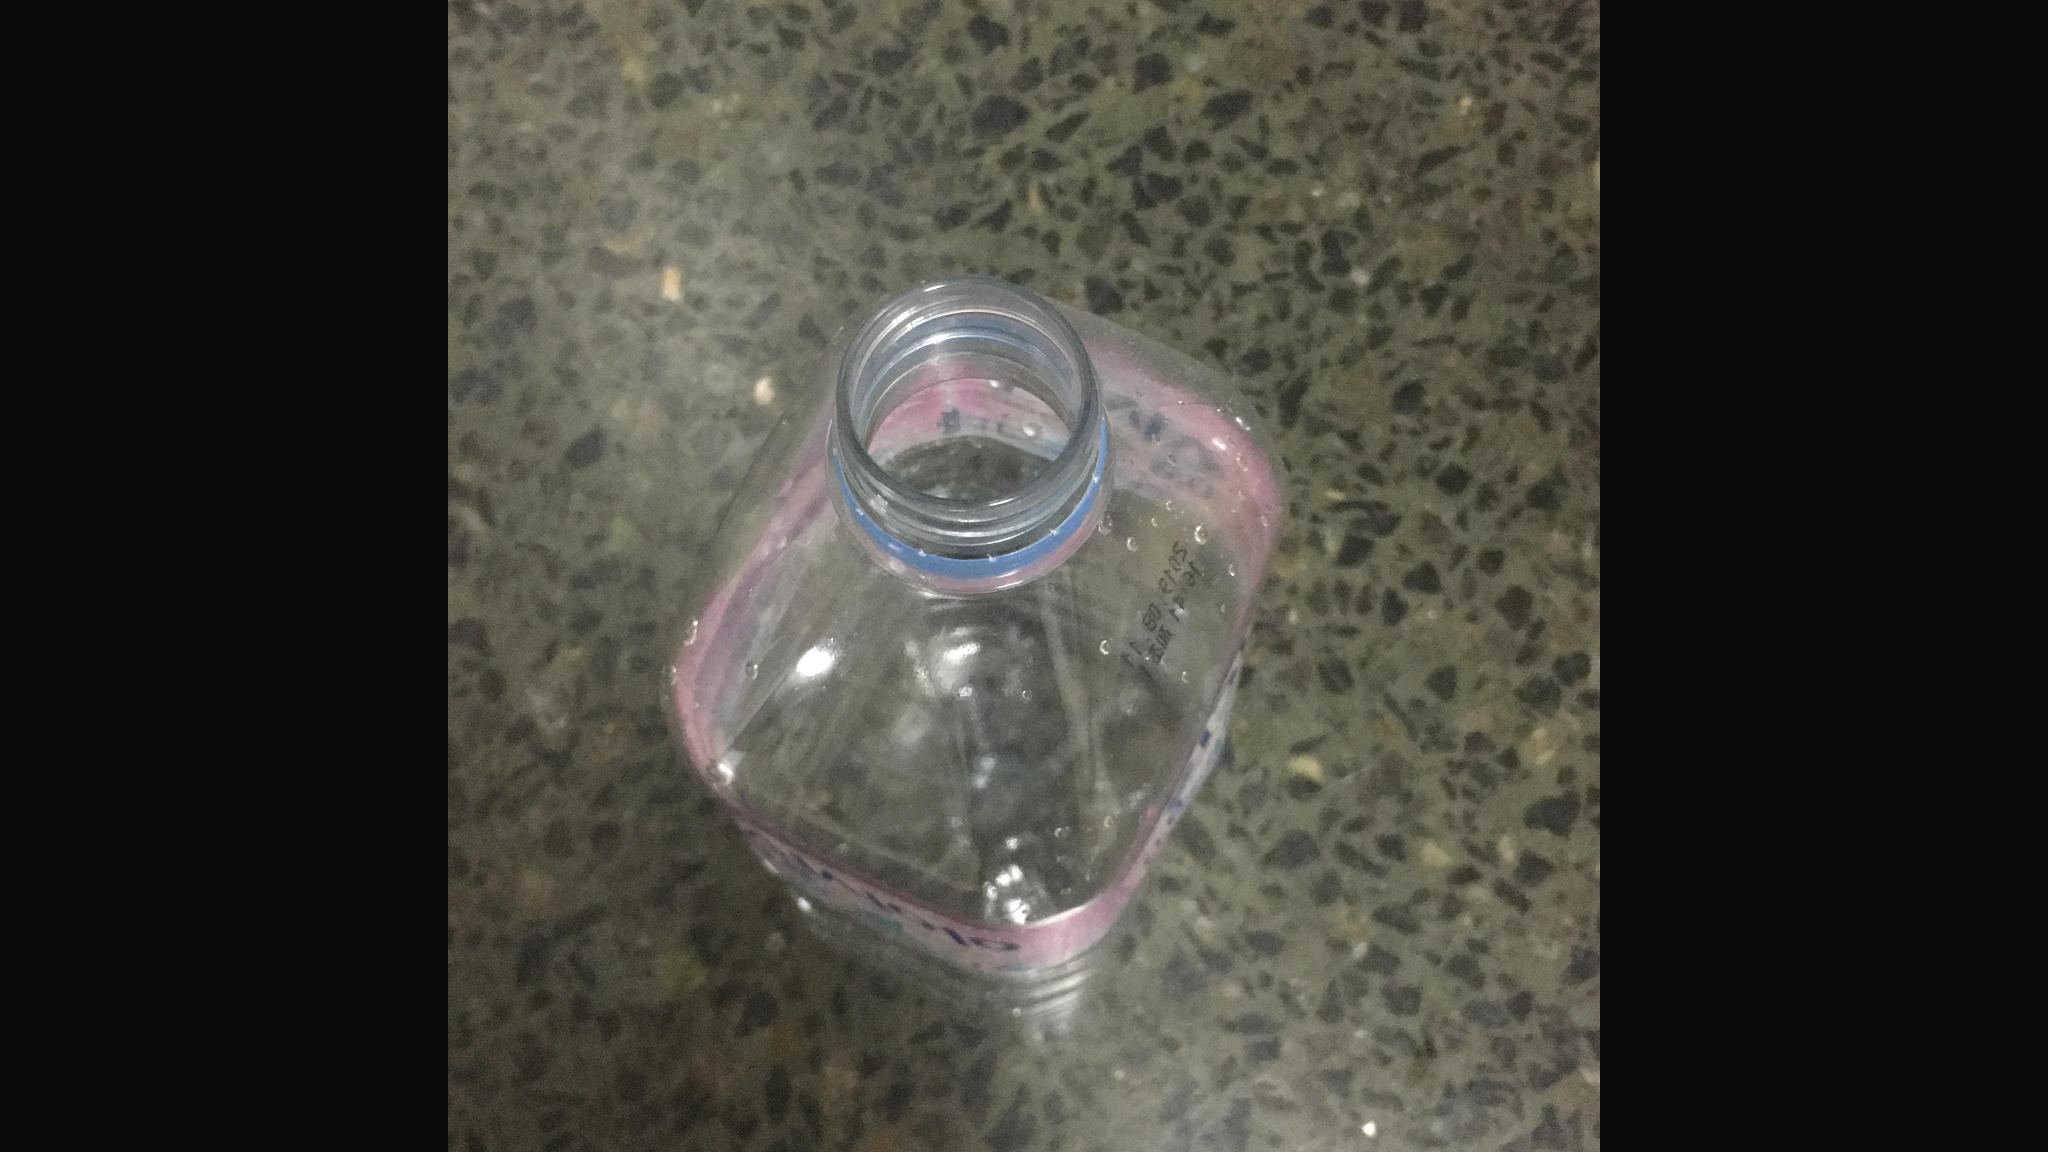bottle: (658, 264, 1298, 1004)
